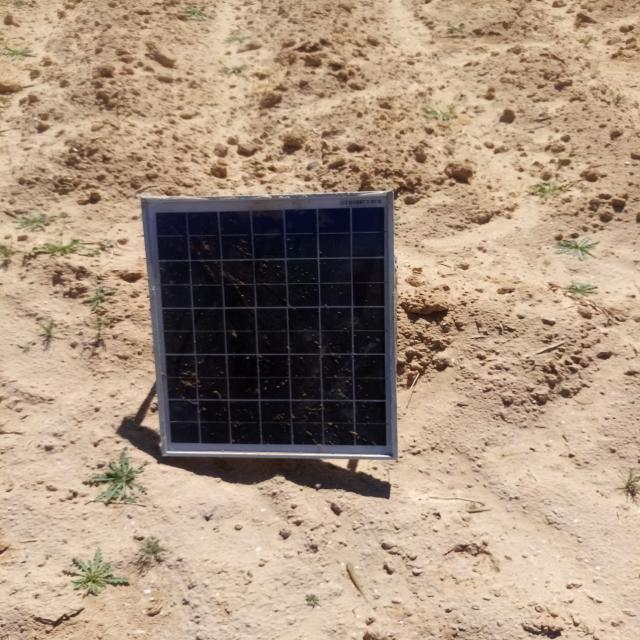faulty: (146, 192, 396, 458)
